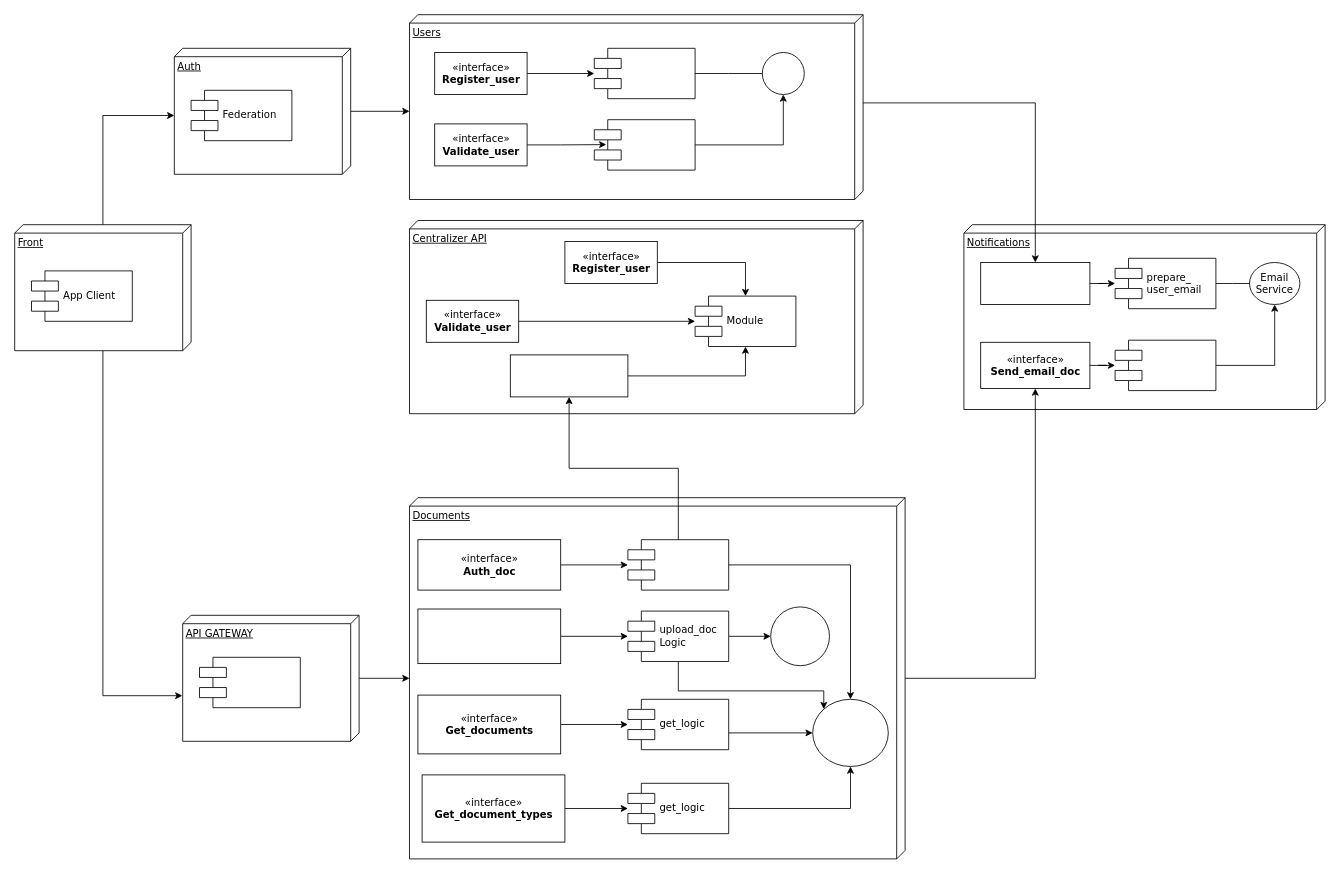
The diagram is 1340 pixels wide and 874 high, and some of its shapes have lost their labels. The shapes that lost their labels are listed below. From the top down, each one's centre as x and y in pixels, then its label:
At (x=644, y=73): "Register_ user_logic".
At (x=782, y=73): "DB Users".
At (x=644, y=144): "Validate_ user_logic".
At (x=1035, y=283): "«interface» send_user_email".
At (x=568, y=375): "«interface» Authenticate_doc".
At (x=1165, y=365): "prepare_ email_doc".
At (x=678, y=564): "Auth_doc Logic".
At (x=489, y=636): "«interface» Upload_doc".
At (x=800, y=636): "File Storage".
At (x=249, y=682): "API Rest".
At (x=850, y=732): "DB Documents".
